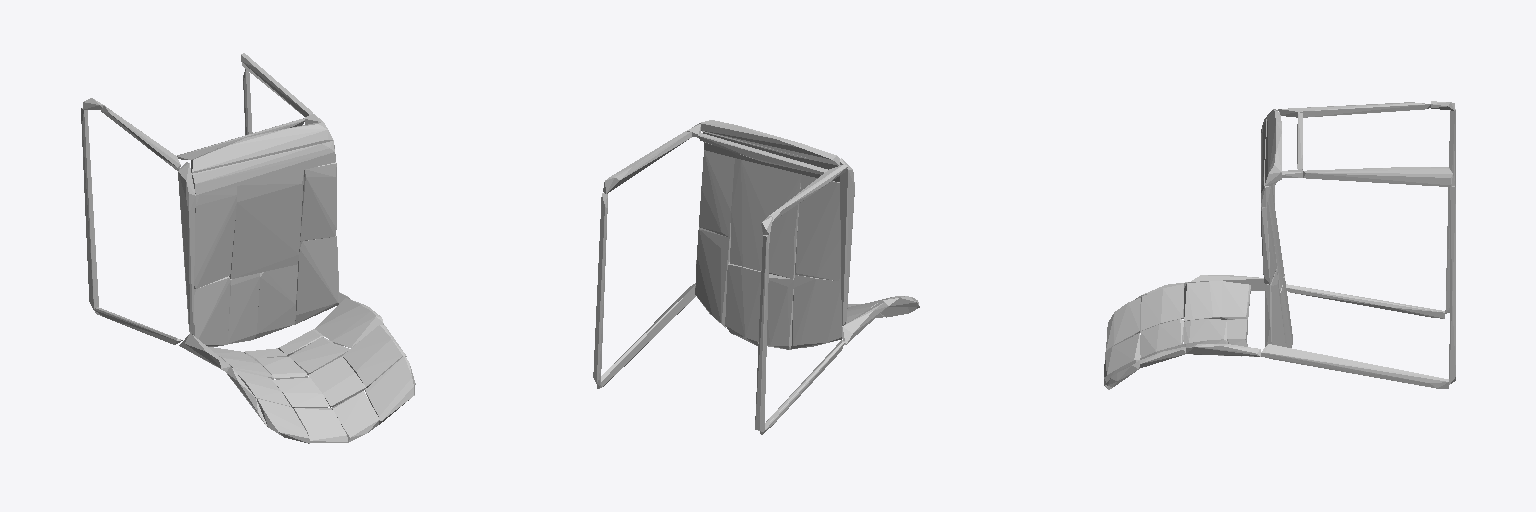
3 views of the same model, side by side, from view 1: azimuth 30°, elevation 25°; view 2: azimuth 150°, elevation 25°; view 3: azimuth 270°, elevation 25° (orthographic).
Parts seen in each view (by area): view 1: convex_34, convex_35, convex_14, convex_5, convex_15, convex_16, convex_11, convex_33, convex_30, convex_27, convex_28, convex_32 (+16 smaller); view 2: convex_34, convex_35, convex_33, convex_5, convex_16, convex_11, convex_15, convex_28, convex_8, convex_1, convex_9, convex_10 (+6 smaller); view 3: convex_10, convex_0, convex_21, convex_18, convex_2, convex_7, convex_9, convex_23, convex_5, convex_15, convex_22, convex_17 (+7 smaller).
Boxes of the visible parts, <box> form: convex_34: <box>229,170,303,278</box>; convex_35: <box>194,186,236,288</box>; convex_14: <box>191,141,335,195</box>; convex_5: <box>295,236,339,324</box>; convex_15: <box>191,122,333,173</box>; convex_16: <box>300,162,336,241</box>; convex_11: <box>255,264,297,338</box>; convex_33: <box>192,276,230,346</box>; convex_30: <box>343,325,406,387</box>; convex_27: <box>315,298,383,347</box>; convex_28: <box>228,273,259,343</box>; convex_32: <box>365,356,415,424</box>; convex_34: <box>730,158,801,278</box>; convex_35: <box>795,175,840,281</box>; convex_33: <box>791,275,842,348</box>; convex_5: <box>695,227,730,327</box>; convex_16: <box>699,150,734,237</box>; convex_11: <box>725,262,760,345</box>; convex_15: <box>699,120,839,165</box>; convex_28: <box>758,274,793,349</box>; convex_8: <box>840,158,854,325</box>; convex_1: <box>755,235,769,431</box>; convex_9: <box>593,193,607,386</box>; convex_10: <box>597,284,695,388</box>; convex_10: <box>1261,344,1448,388</box>; convex_0: <box>1303,167,1454,186</box>; convex_21: <box>1141,284,1183,330</box>; convex_18: <box>1184,281,1221,321</box>; convex_2: <box>1286,284,1444,318</box>; convex_7: <box>1278,102,1430,117</box>; convex_9: <box>1449,186,1455,384</box>; convex_23: <box>1106,298,1140,350</box>; convex_5: <box>1265,269,1285,346</box>; convex_15: <box>1265,110,1281,185</box>; convex_22: <box>1141,319,1183,357</box>; convex_17: <box>1222,281,1250,319</box>.
Bounding box in the file's own units: 0.4623 × 0.6216 × 0.8052.